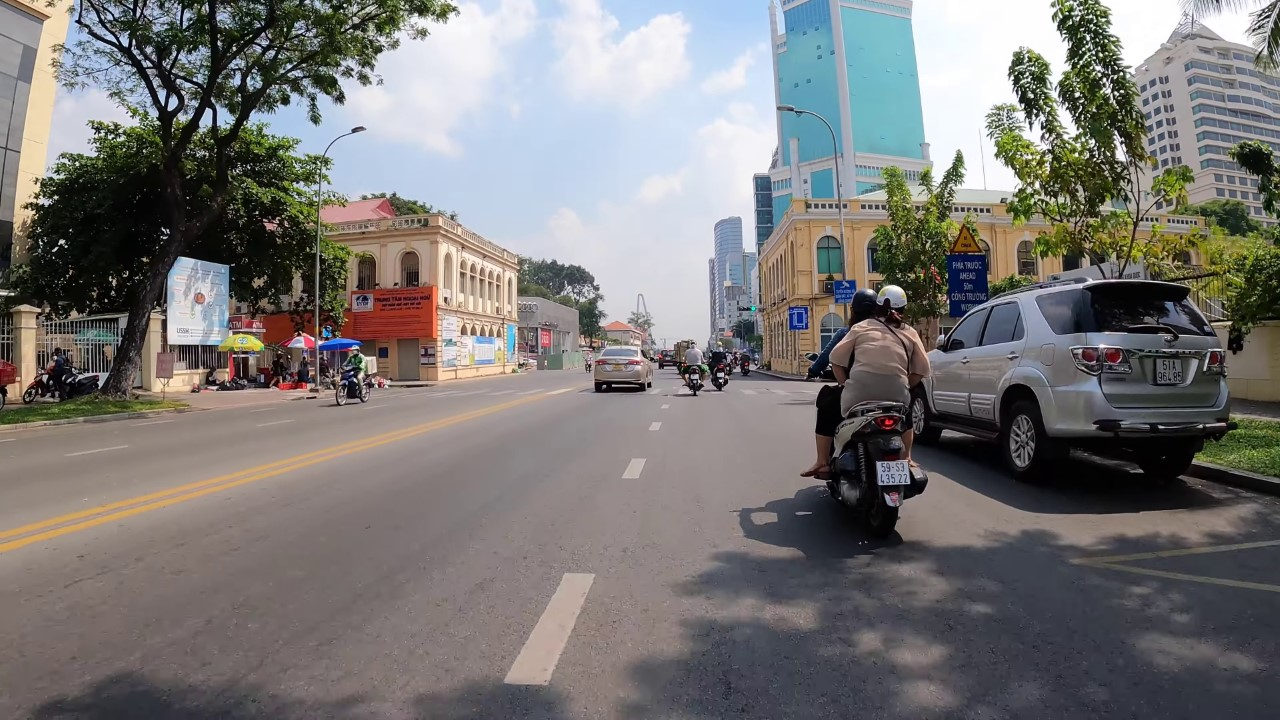di_cham: (949, 221, 985, 255)
